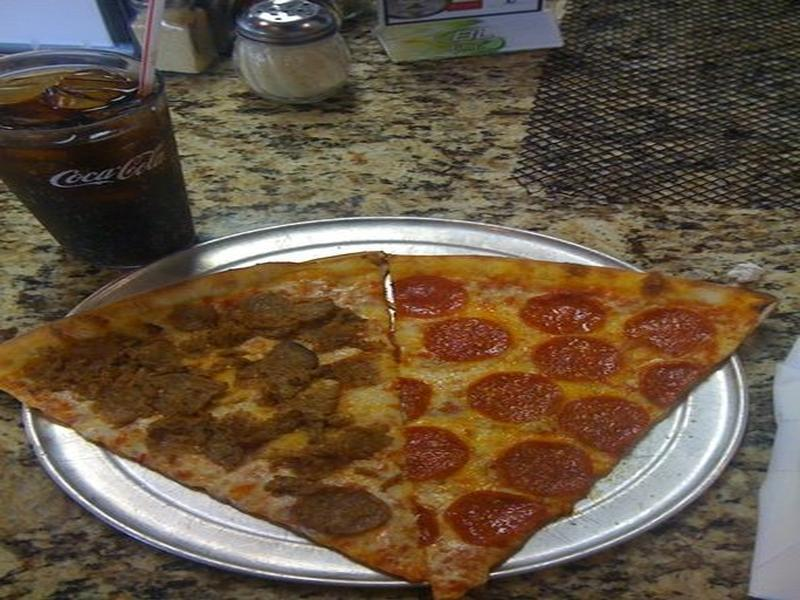pizza: (11, 215, 788, 585)
